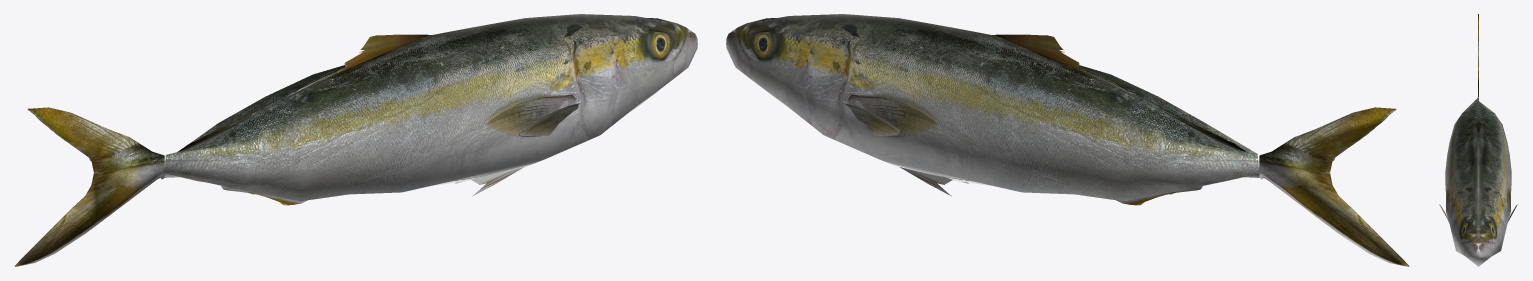
Rendered from warasa.fbx.
3 views of the same model, side by side, from view 1: azimuth 30°, elevation 25°; view 2: azimuth 150°, elevation 25°; view 3: azimuth 270°, elevation 25° (orthographic). The views are drawn at different scales.
Visible parts, largest first — view 1: Plane; view 2: Plane; view 3: Plane.
Boxes of the visible parts, x1,y1,x2,y2 form: Plane: (14,14,697,266); Plane: (726,14,1409,266); Plane: (1439,14,1517,266).
Bounding box in the file's own units: 896 × 235 × 161.
1 material, 1 textured.
